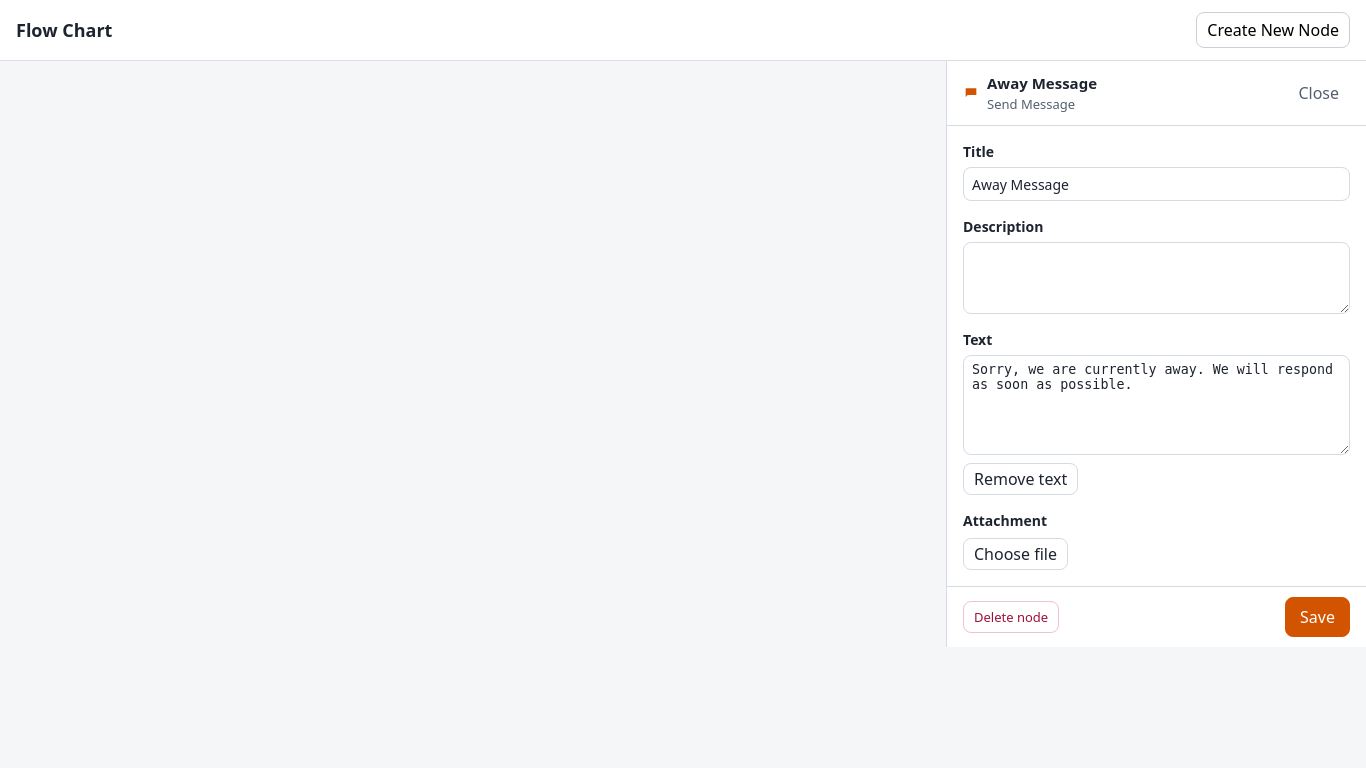
Test: FlowView drawer routing › deletes the open node and closes the drawer
Click the button "Delete node": coordinates (1011, 617) [963,601,1059,633]
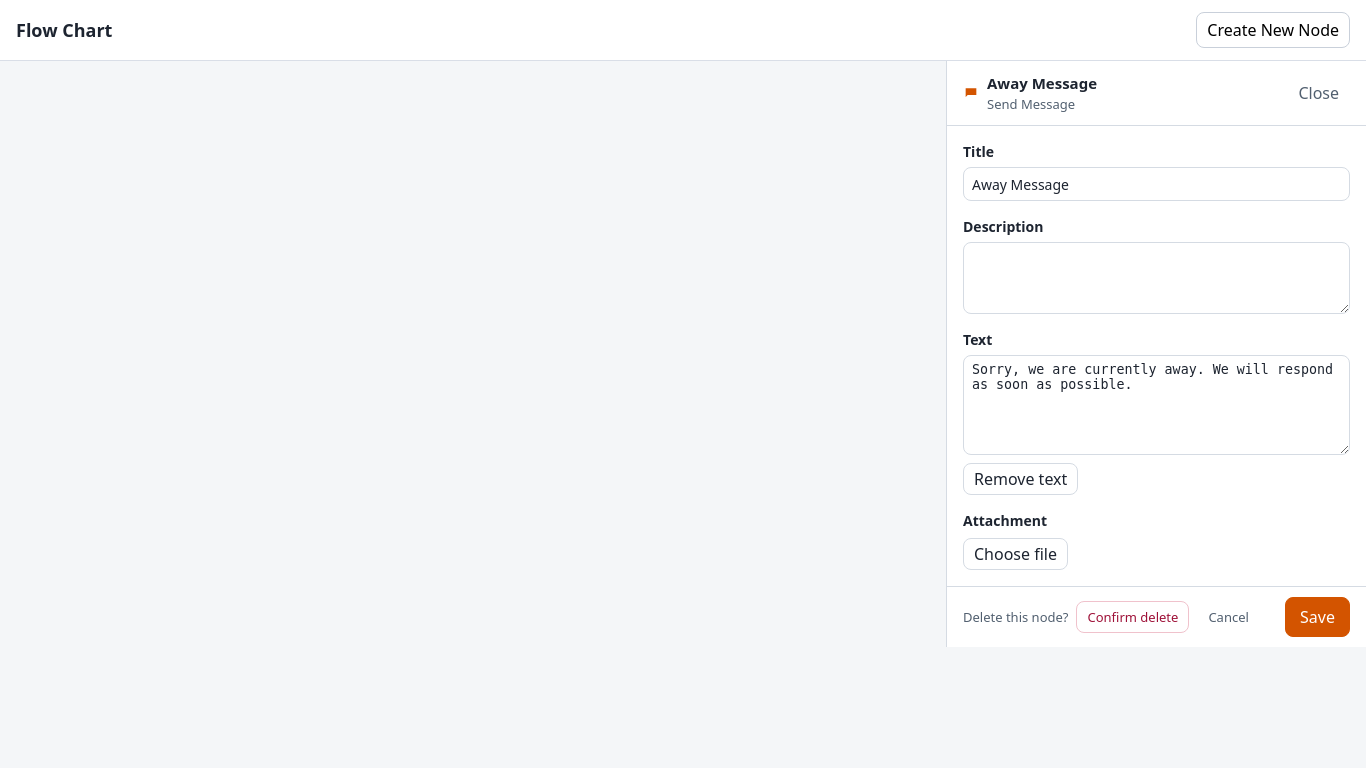
Click the button "Confirm delete": coordinates (1133, 617) [1076,601,1189,633]
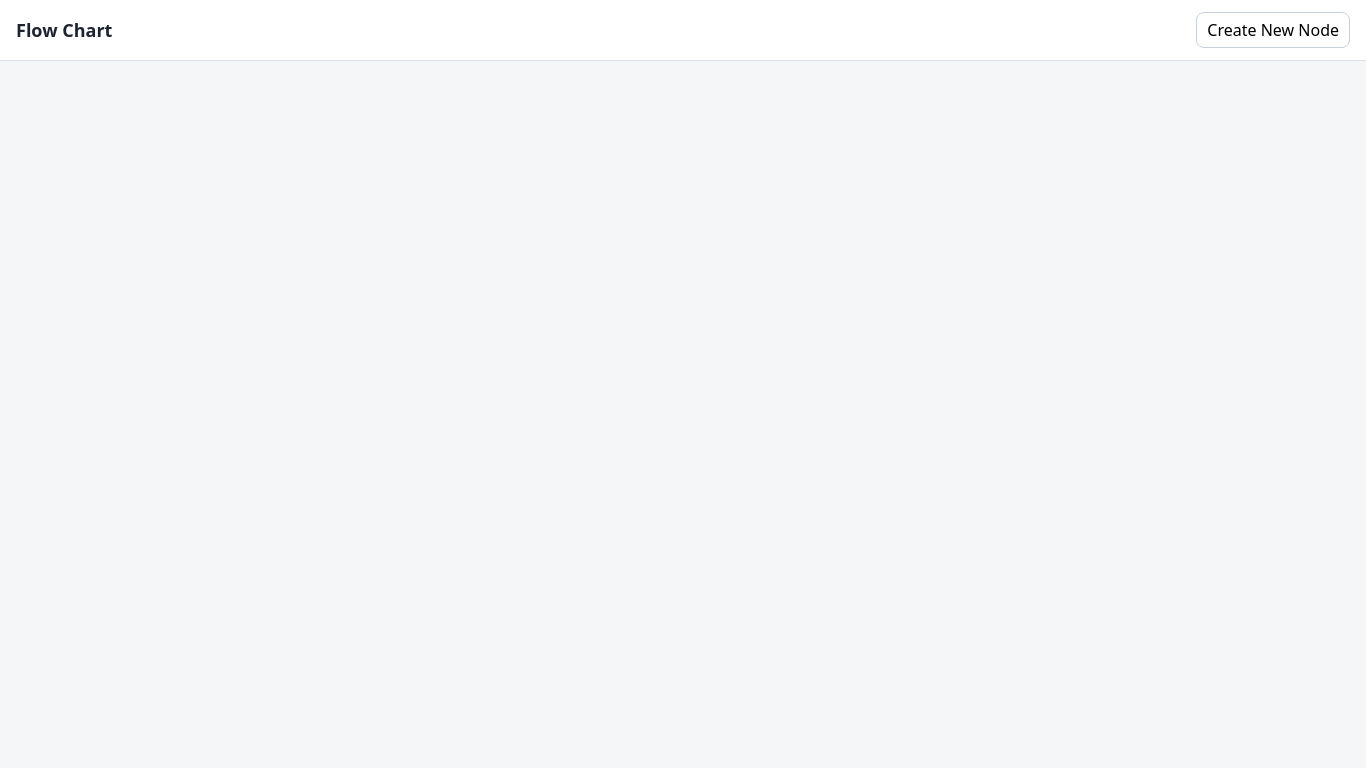
Expected: the text "Away Message" is gone
